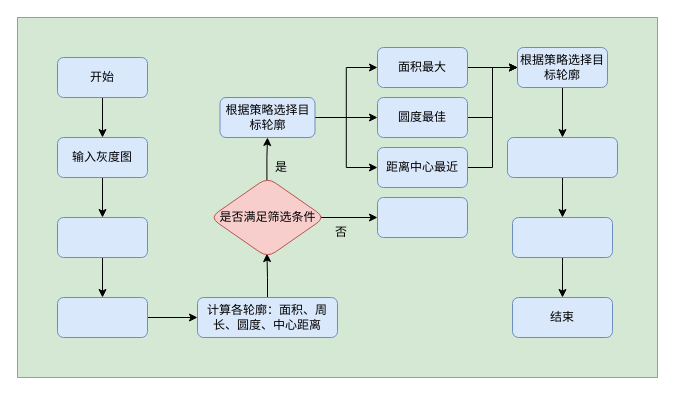
Image size: 675x395. Some labels were removed from this diagram. The shapes that lost their labels are listed below. From the top down, each one's centre as x and y in pixels, then its label:
At (x=562, y=157): "minEnclosingCircle计算圆心半径".
At (x=102, y=237): "二值化（固定阈值/Otsu）".
At (x=422, y=217): "检测失败".
At (x=562, y=237): "输出：半径、圆心、成功状态等".
At (x=102, y=317): "findContours提取轮廓".
